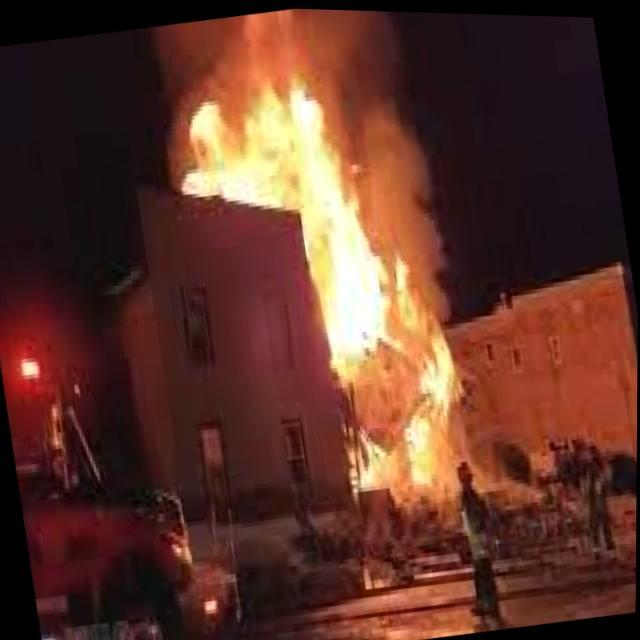fire: (274, 16, 462, 388), (125, 10, 332, 246), (332, 380, 474, 504)
